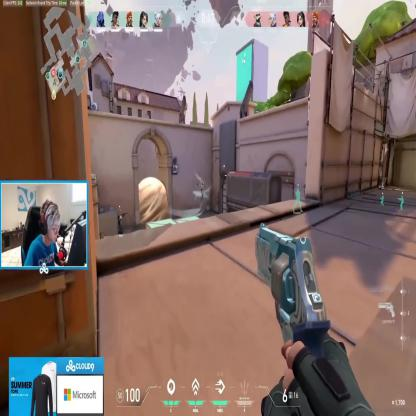enemy: (198, 180, 204, 202)
enemy_head: (202, 180, 204, 184)
